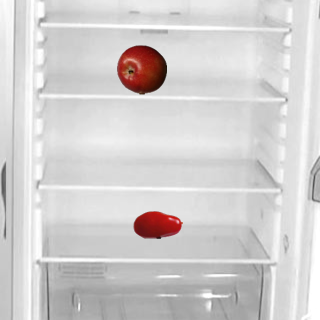Apple Braeburn: (116, 44, 166, 94)
Tomato 2: (132, 199, 182, 249)
